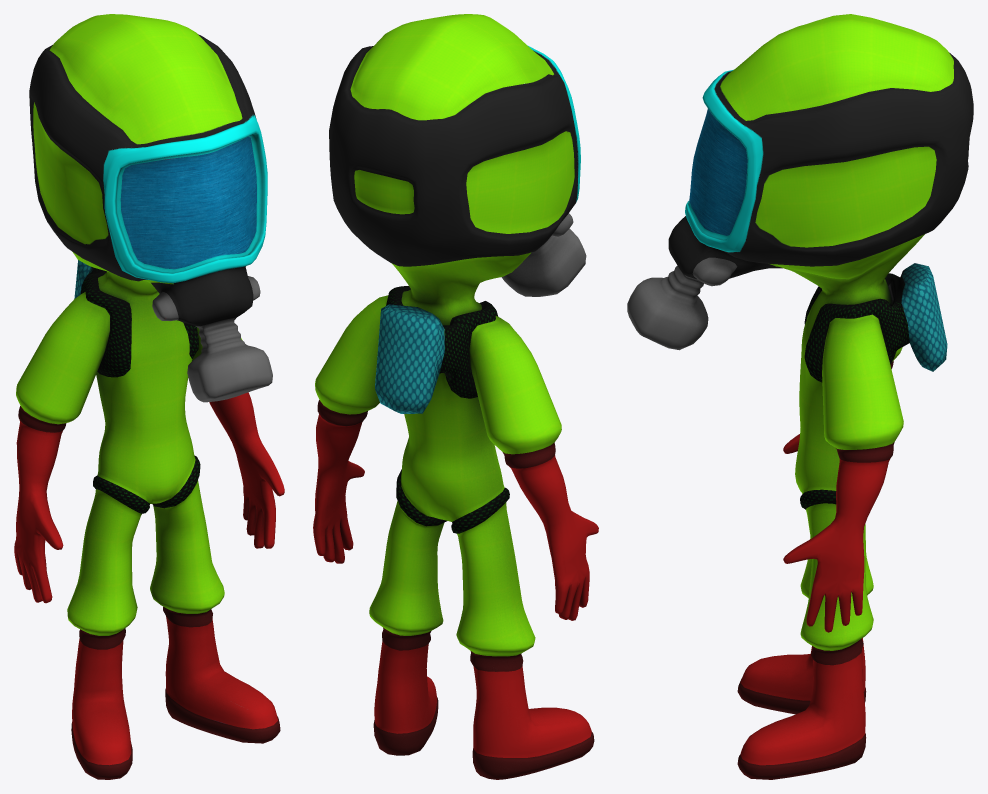
The model's file is character.fbx.
3 renders of one model, left to right at view 1: azimuth 30°, elevation 25°; view 2: azimuth 150°, elevation 25°; view 3: azimuth 270°, elevation 25°, orthographic. The views are drawn at different scales.
Parts seen in each view (by area): view 1: character_smooth; view 2: character_smooth; view 3: character_smooth.
Part boxes in pixels (bbox=[...]): character_smooth: bbox=[14, 14, 284, 779]; character_smooth: bbox=[313, 14, 598, 779]; character_smooth: bbox=[627, 14, 973, 779].
Size of the model in its own units: 65.77 by 180 by 79.18.
Materials: 1 (1 with a texture image).
